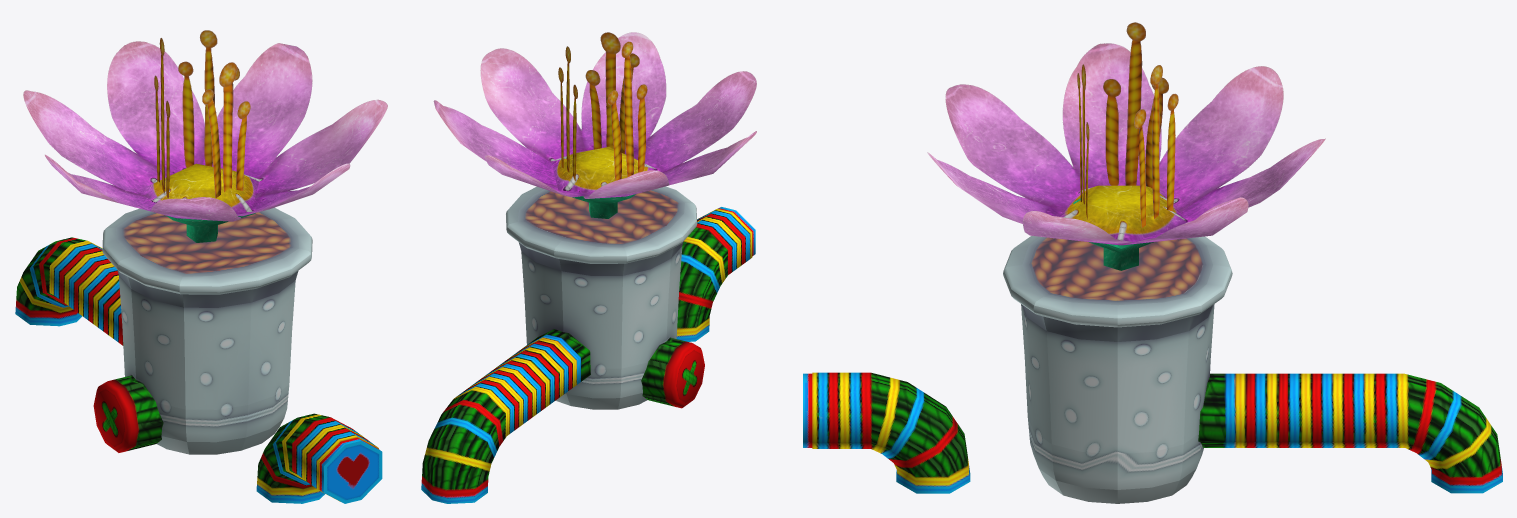
The model's file is Maison_Vers.fbx.
The picture shows the model from 3 angles, left to right: view 1: azimuth 30°, elevation 25°; view 2: azimuth 150°, elevation 25°; view 3: azimuth 270°, elevation 25°; orthographic projection. The views are drawn at different scales.
Parts seen in each view (by area): view 1: Object001; view 2: Object001; view 3: Object001.
Boxes of the visible parts, x1,y1,x2,y2 form: Object001: [15, 30, 387, 503]; Object001: [421, 32, 756, 503]; Object001: [803, 22, 1502, 503].
Bounding box in the file's own units: 167 × 199 × 289.
